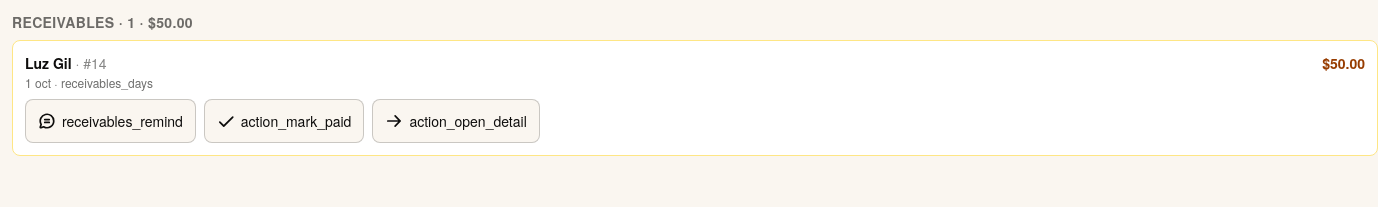
Test: Por cobrar: saldar pide el método › does not offer a cheque when marking a pending order paid
Click the button "action_mark_paid": (284, 121) x1=204 y1=99 x2=364 y2=143
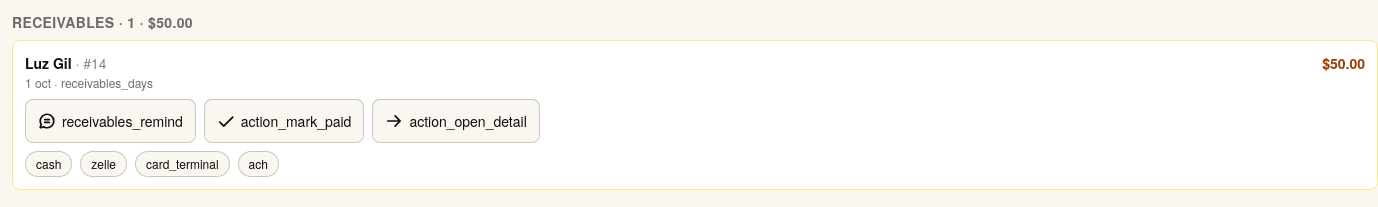
Now the button "cash" is shown, box x1=25 y1=151 x2=72 y2=177
